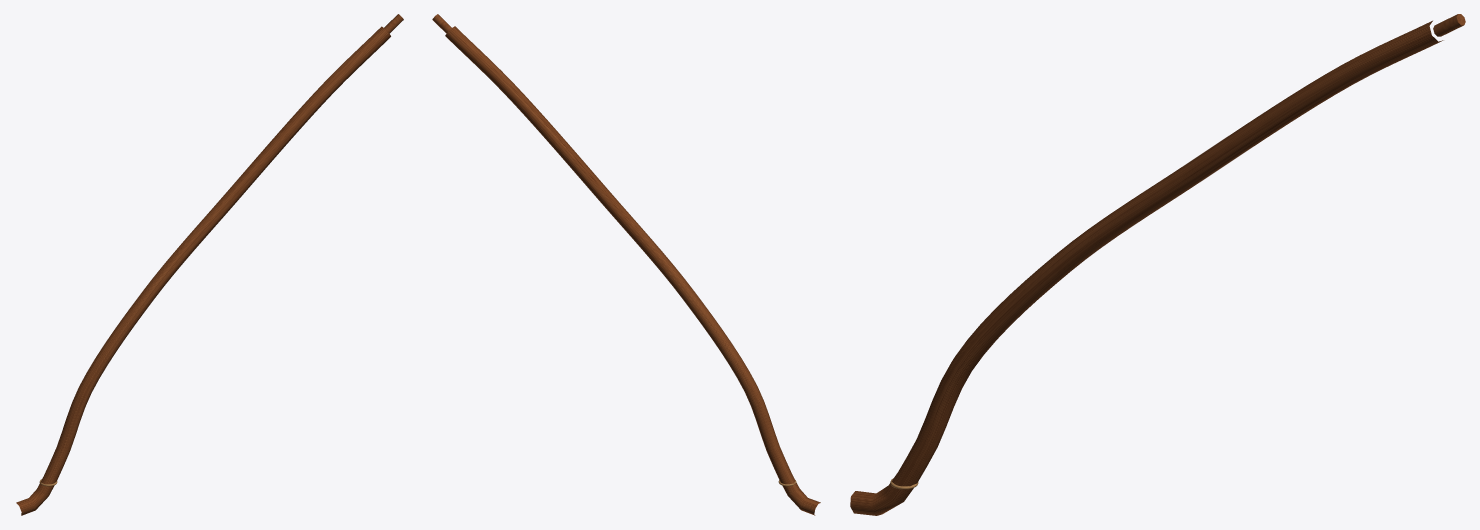
The model's file is uuk-roof-pole.glb.
The picture shows the model from 3 angles, left to right: view 1: azimuth 30°, elevation 25°; view 2: azimuth 150°, elevation 25°; view 3: azimuth 330°, elevation 25°; orthographic projection. The views are drawn at different scales.
Parts seen in each view (by area): view 1: Uuk roof pole; view 2: Uuk roof pole; view 3: Uuk roof pole.
Part boxes in pixels (x1,y1,x2,y2): Uuk roof pole: (16, 14, 403, 515); Uuk roof pole: (432, 14, 820, 515); Uuk roof pole: (850, 14, 1465, 515).
Size of the model in its own units: 1.3 by 1.31 by 0.052.
Materials: 2 (2 with a texture image).
